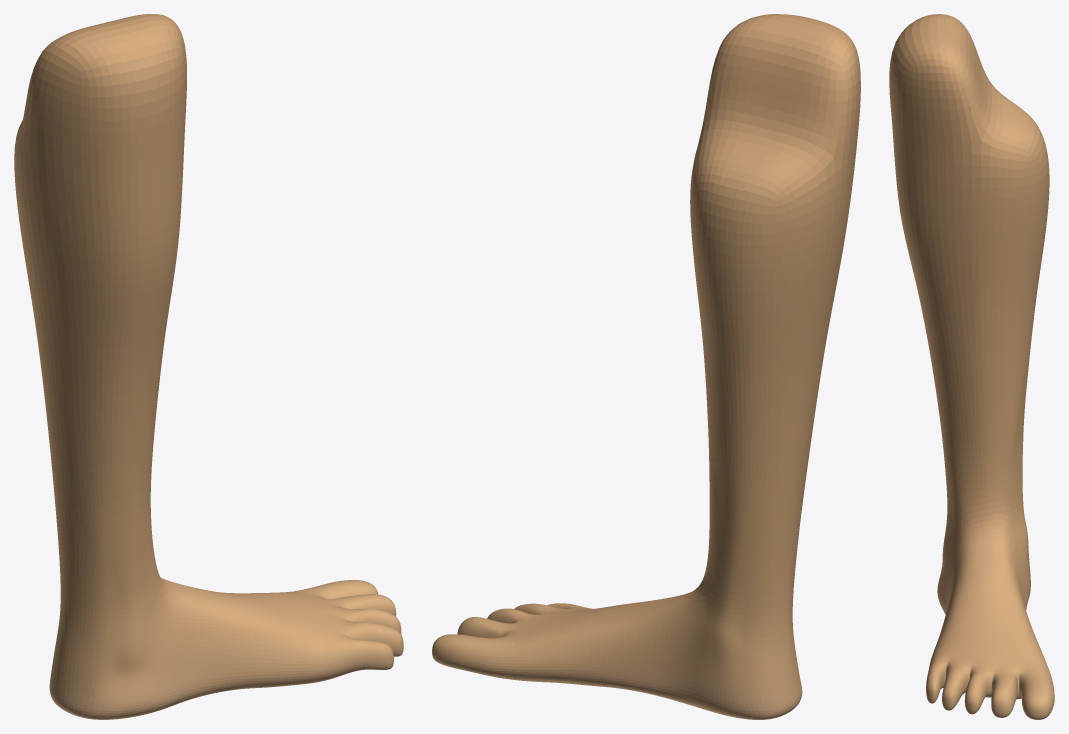
Rendered from Foot 2.fbx.
The picture shows the model from 3 angles, left to right: view 1: azimuth 30°, elevation 25°; view 2: azimuth 150°, elevation 25°; view 3: azimuth 270°, elevation 25°; orthographic projection. The views are drawn at different scales.
Visible parts, largest first — view 1: Cube.002; view 2: Cube.002; view 3: Cube.002.
Part boxes in pixels (x1,y1,x2,y2): Cube.002: (14,14,403,719); Cube.002: (432,14,860,719); Cube.002: (889,14,1054,719).
Bounding box in the file's own units: 405 × 702 × 183.
